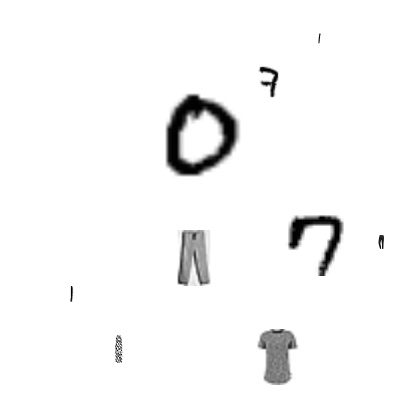0: (139, 75, 251, 187)
1: (60, 282, 82, 304), (312, 31, 326, 45)
7: (274, 192, 358, 276), (248, 58, 290, 100)
Dress: (105, 335, 133, 363)
T-shirt/top: (250, 329, 306, 385)
Trouser: (166, 230, 222, 286), (374, 235, 388, 249)
